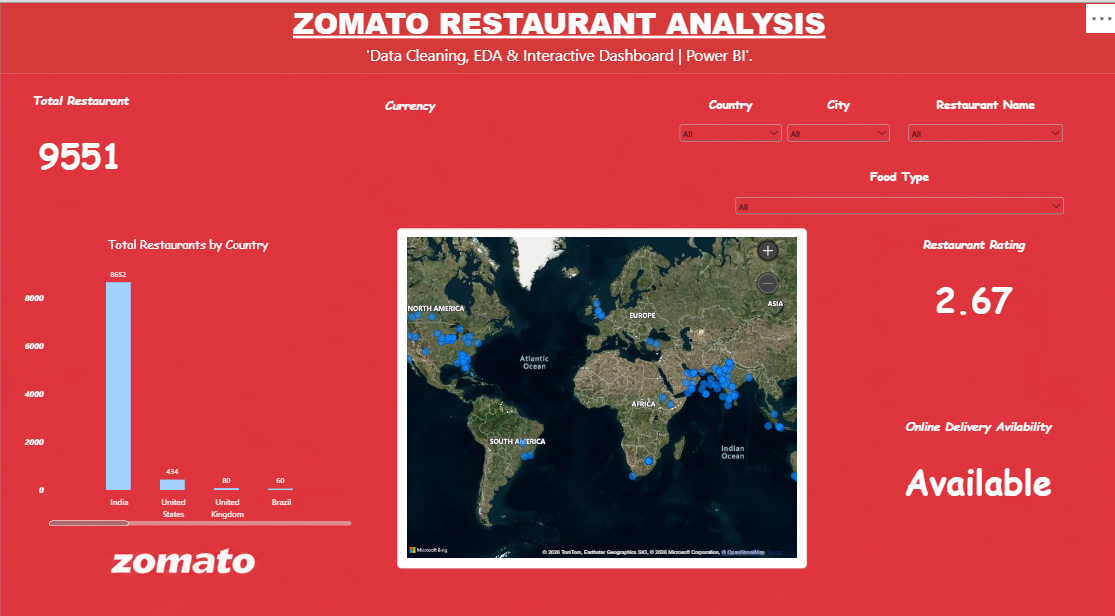

This screenshot's page, from the dashboard's own definition file:
{"tool":"powerbi","page":{"name":"Zomato Restaurant Analysis","canvas":[1920,1080],"ordinal":0},"visuals":[{"type":"image","title":"ZOMATO RESTAURANT ANALYSIS","box":[1.9,0,1918.8,1057.9],"z":0},{"type":"card","title":"Total Restaurant","fields":{"Values":["zomato.Total Restaurants"]},"box":[0,140,282.5,197.5],"z":1000},{"type":"columnChart","fields":{"Category":["zomato.Country"],"Y":["zomato.Total Restaurants"]},"box":[28,387.3,592.8,525.7],"z":2000},{"type":"slicer","title":"Country","fields":{"Values":["zomato.Country"]},"box":[1162.5,160,185,147.5],"z":3000},{"type":"slicer","title":"Restaurant Name","fields":{"Values":["zomato.Restaurant Name"]},"box":[1555,160,275,147.5],"z":4000},{"type":"card","title":"Currency","fields":{"Values":["Min(zomato.Currency)"]},"box":[250,150,912.5,157.5],"z":5000},{"type":"slicer","title":"City","fields":{"Values":["zomato.City"]},"box":[1347.5,160,185,147.5],"z":6000},{"type":"card","title":"Restaurant Rating","fields":{"Values":["Avg(zomato.Aggregate rating)"]},"box":[1439.1,387.6,465.6,198.3],"z":7000},{"type":"slicer","title":"Food Type","fields":{"Values":["zomato.Food Type"]},"box":[1257.6,284.7,572.5,165],"z":8000},{"type":"card","title":"Online Delivery Avilability","fields":{"Values":["Min(zomato.Online delivery)"]},"box":[1439.1,699.5,481.2,196],"z":9000},{"type":"map","fields":{"Category":["zomato.City"],"X":["Avg(zomato.Longitude)"],"Y":["Avg(zomato.Latitude)"]},"box":[683.7,387.3,702.3,583.3],"z":10000}]}

Visuals, with their boxes in screenshot pixels (x1, y1, x2, y2), scaled from the page's 1920x1080 canvas onto the 1115x616 screenshot:
"ZOMATO RESTAURANT ANALYSIS" image: <region>1, 0, 1114, 603</region>
"Total Restaurant" card: <region>0, 80, 164, 193</region>
columnChart - zomato.Country x zomato.Total Restaurants: <region>16, 221, 361, 521</region>
"Country" slicer: <region>675, 91, 783, 175</region>
"Restaurant Name" slicer: <region>903, 91, 1063, 175</region>
"Currency" card: <region>145, 86, 675, 175</region>
"City" slicer: <region>783, 91, 890, 175</region>
"Restaurant Rating" card: <region>836, 221, 1106, 334</region>
"Food Type" slicer: <region>730, 162, 1063, 256</region>
"Online Delivery Avilability" card: <region>836, 399, 1114, 511</region>
map - zomato.City x Avg(zomato.Longitude): <region>397, 221, 805, 554</region>
